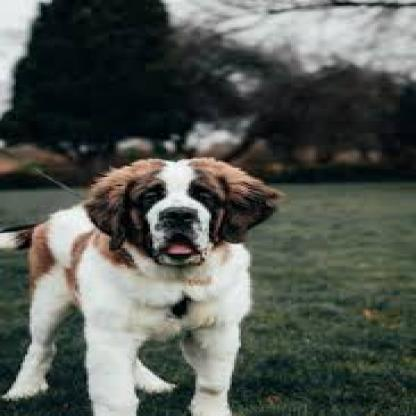saint bernard: (5, 131, 416, 416)
